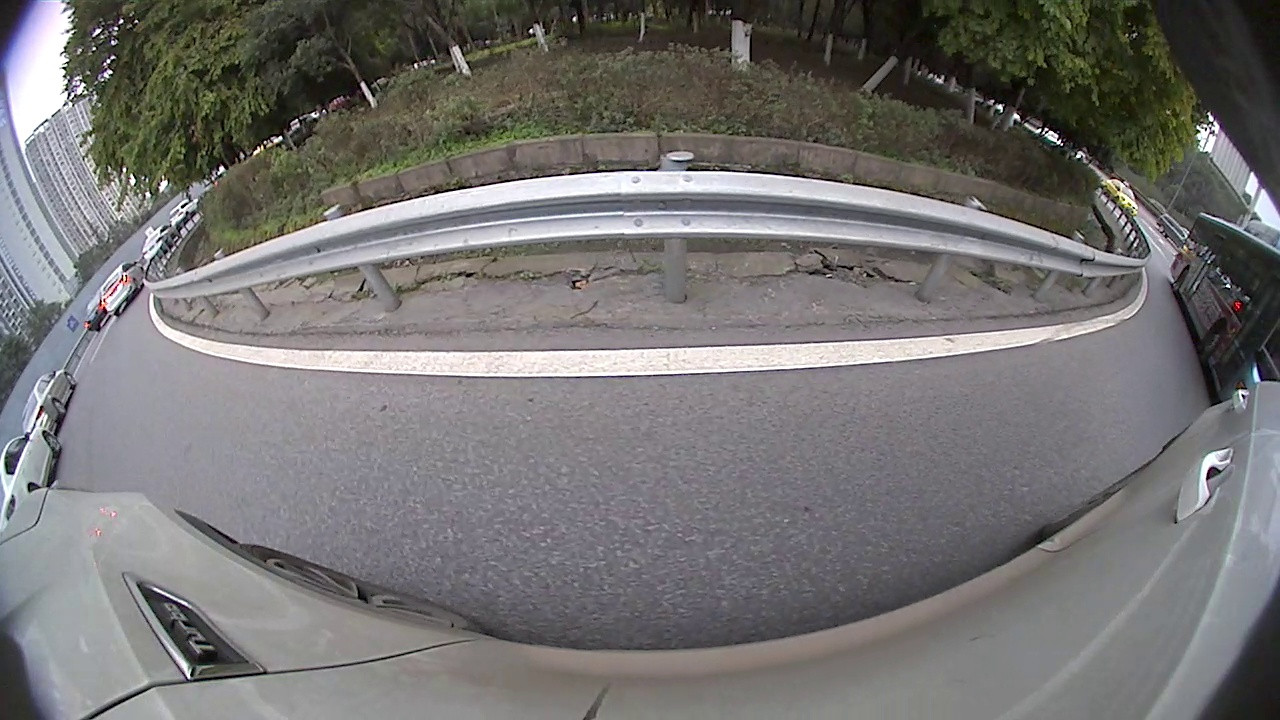car: (772, 94, 952, 193), (132, 169, 225, 241), (75, 224, 155, 295), (1058, 223, 1126, 297), (1180, 350, 1237, 432)
front: (927, 168, 951, 194), (175, 200, 193, 222), (104, 265, 120, 287)
rear: (843, 140, 869, 171), (83, 284, 98, 298)
truck: (214, 83, 343, 158), (523, 32, 703, 71)
